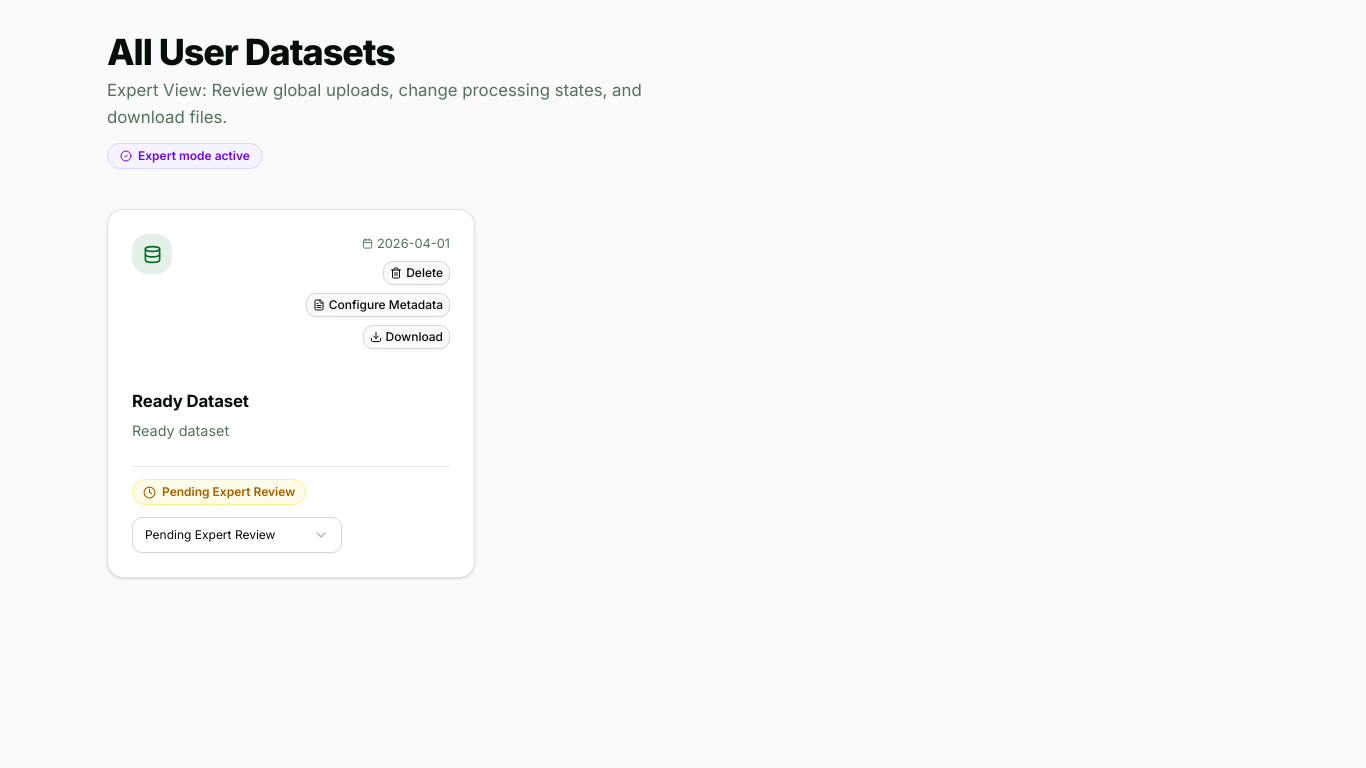
Test: MyDatasetsPage › shows a recoverable message when expert dataset download fails
Step 1. Click the button "Download" → (406, 337), box top-left (362, 325), bottom-right (450, 349)
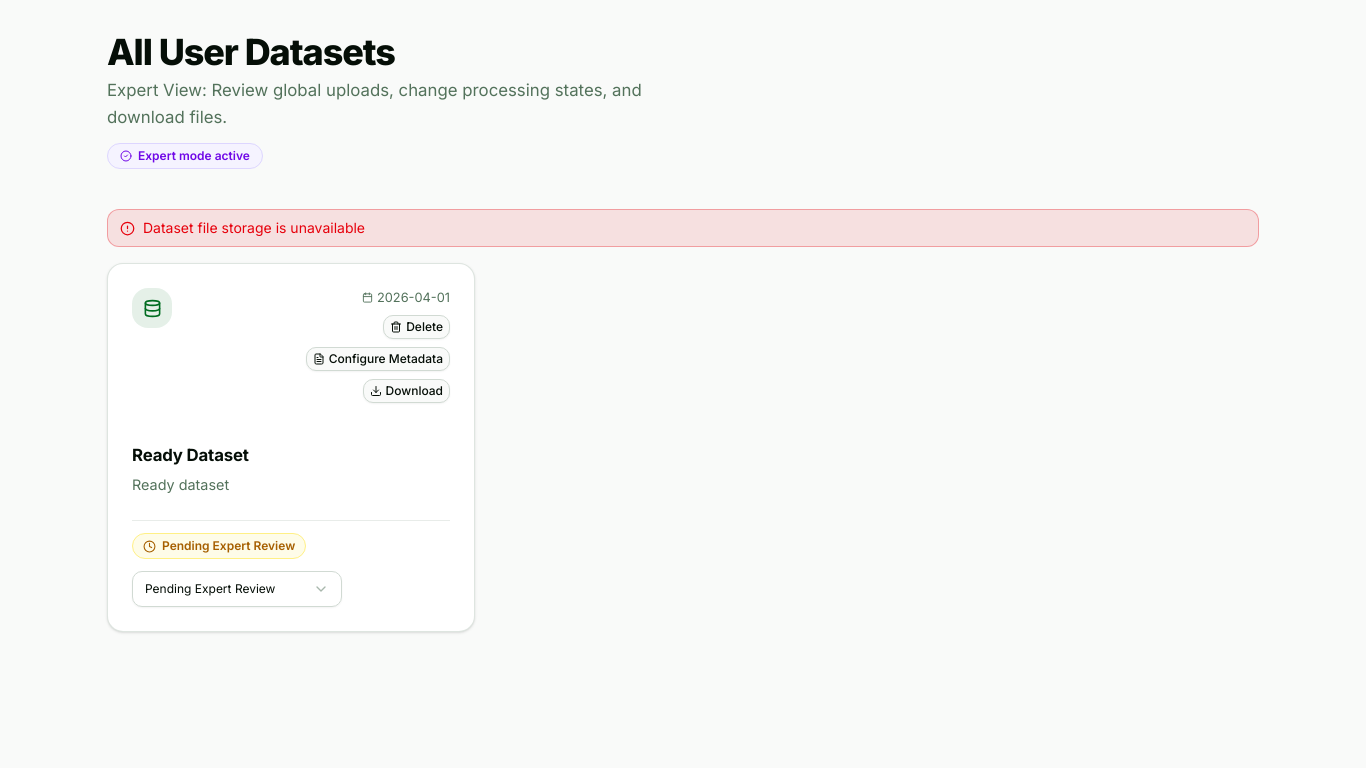
Expected: the button "Download" is enabled, top-left (362, 379), bottom-right (450, 403)
Result: the text "Dataset file storage is unavailable" is shown at top-left (143, 218), bottom-right (365, 238)
